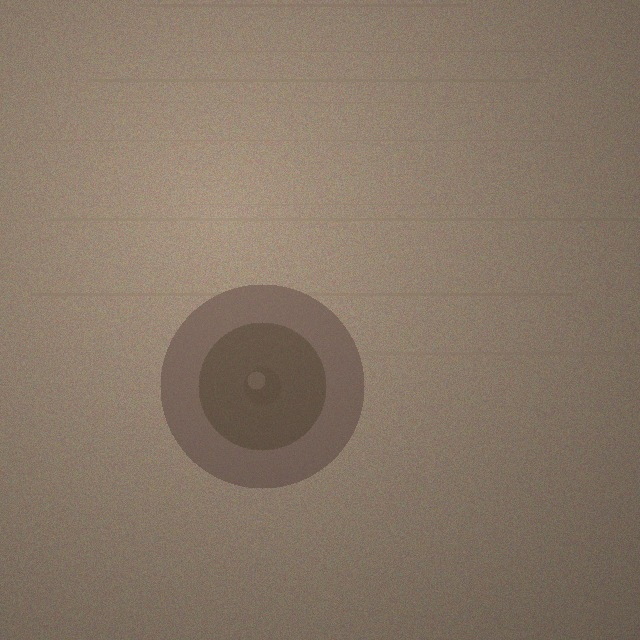good: (160, 284, 364, 488)
